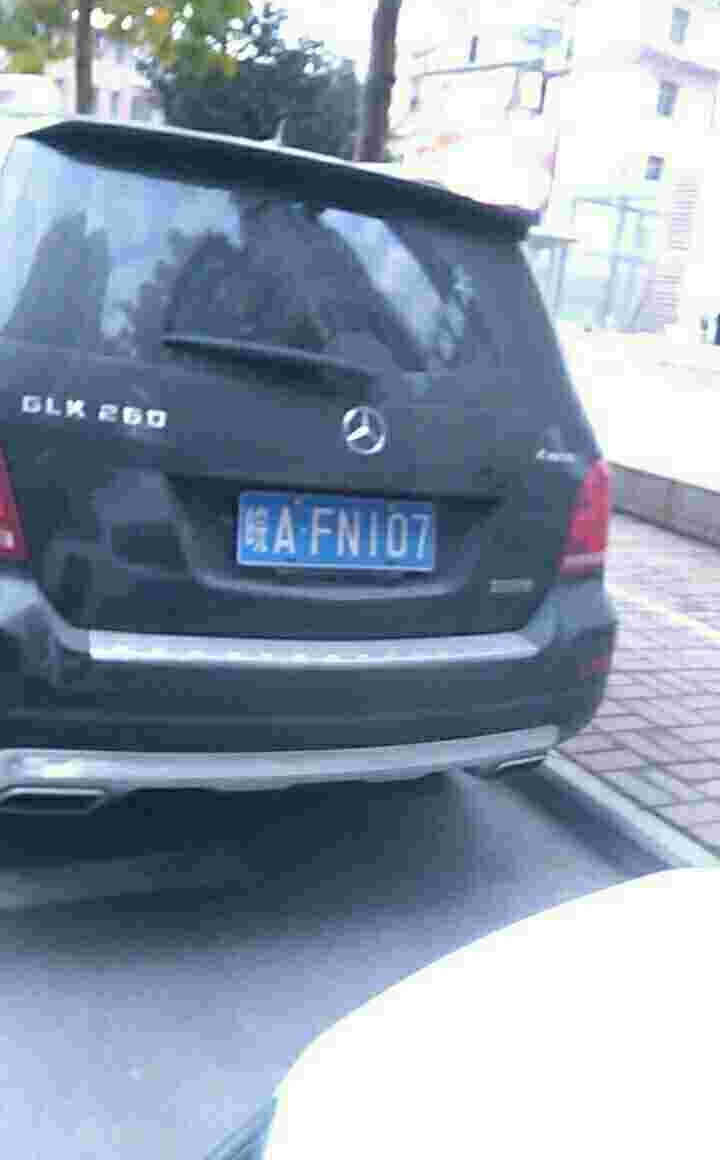license_plate: (245, 500, 442, 572)
